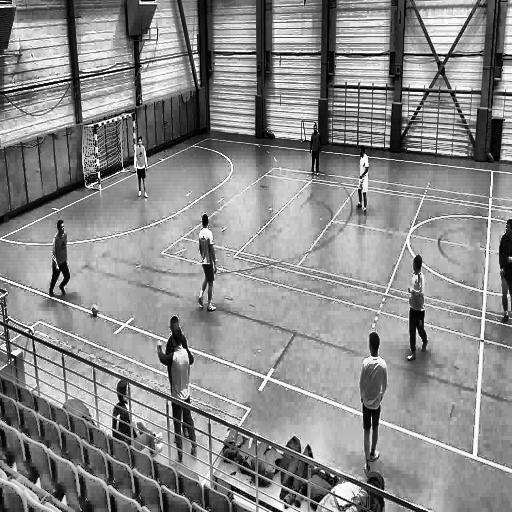ball: (90, 302, 100, 320)
player: (156, 331, 198, 464), (360, 332, 388, 479), (406, 254, 428, 362), (197, 213, 219, 315), (48, 219, 71, 303), (496, 218, 512, 328), (133, 134, 149, 200), (355, 145, 369, 217), (309, 123, 323, 178)
